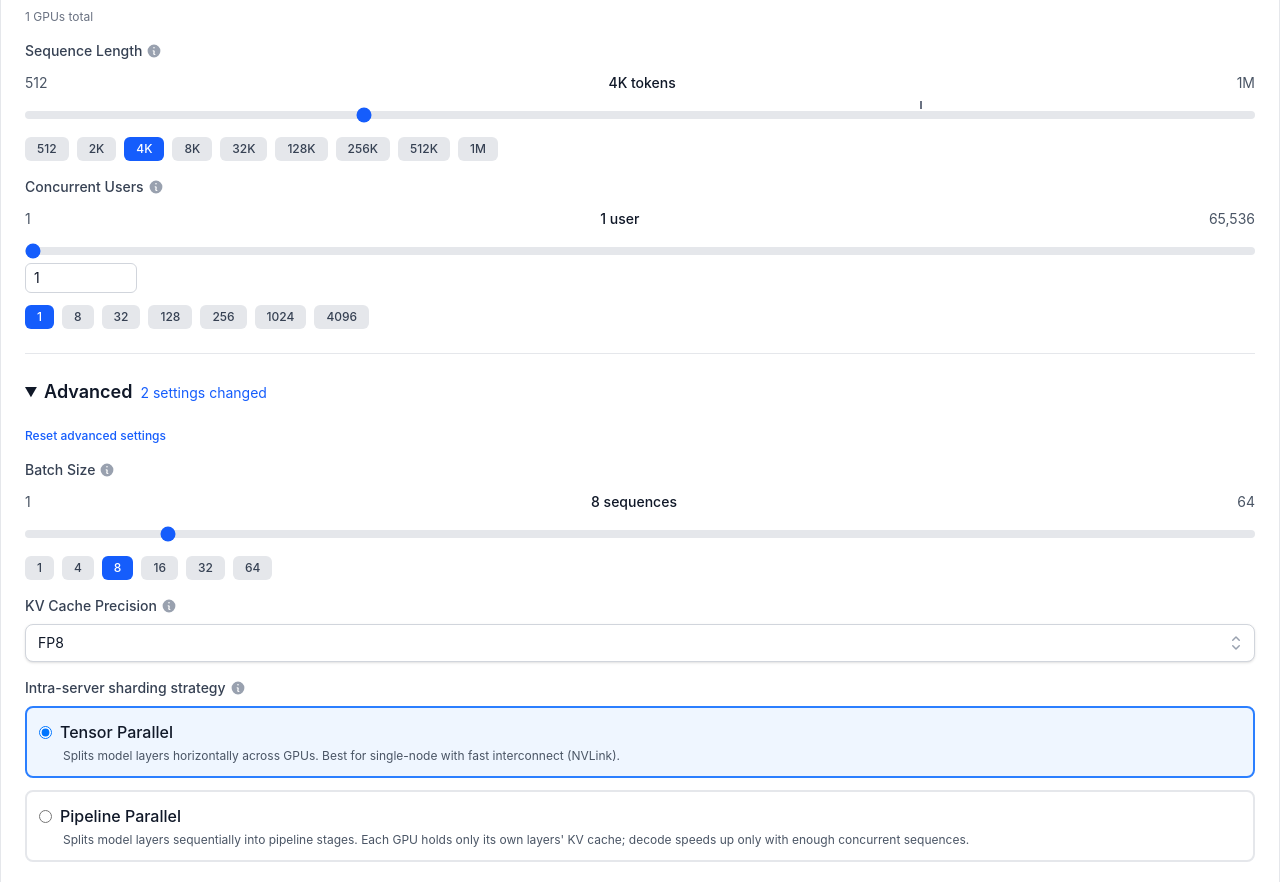
Test: InputPanel layout (ADR 0005) › the Advanced reset button is visible inside the section, restores the defaults, and collapses "N settings changed" to 0
The image size is (1280, 882).
(page scrolled)
Expected: the text "2 settings changed" is shown, 140,384 -> 267,401
Click the button "Reset advanced settings". click: (96, 436)
box: 25,428 -> 166,444
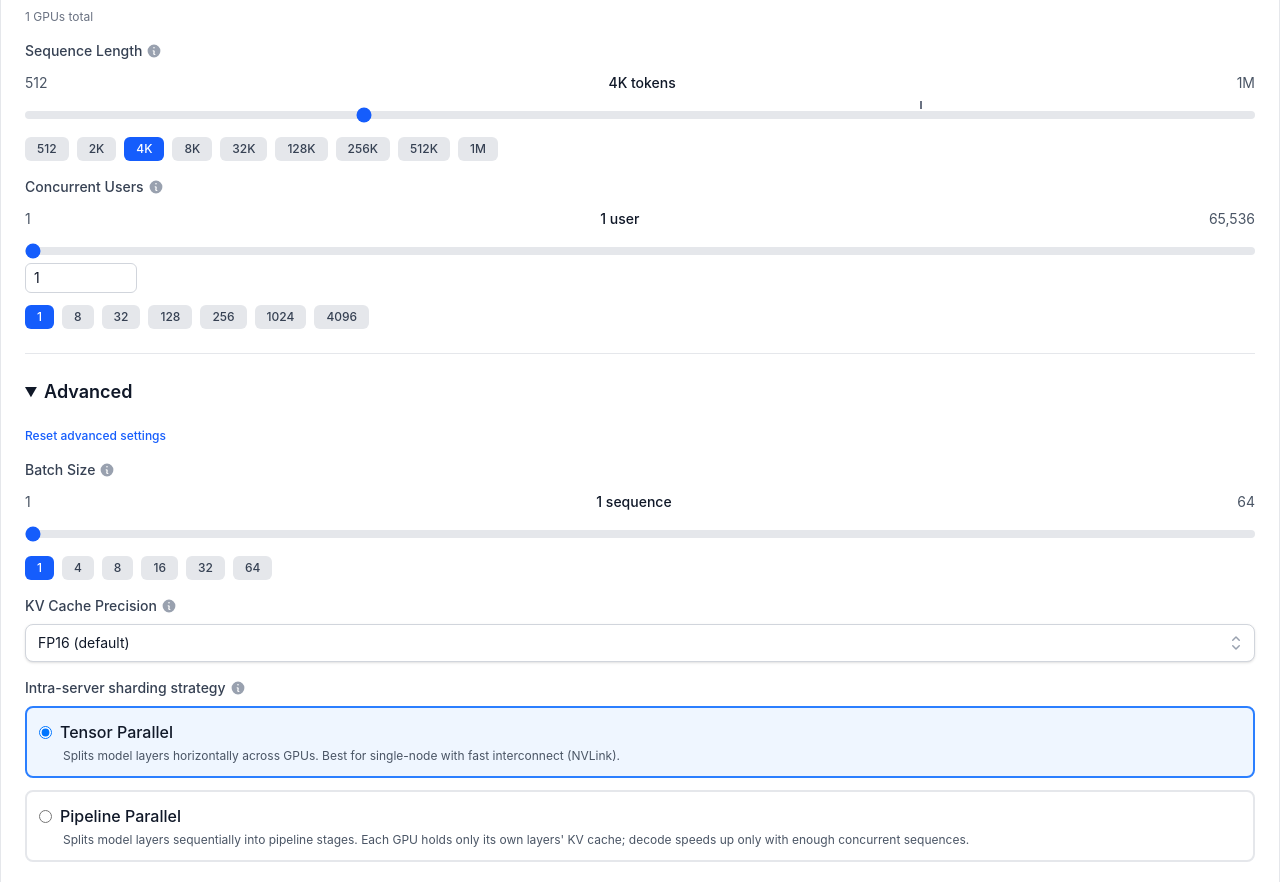
Expected: the text "2 settings changed" is gone
